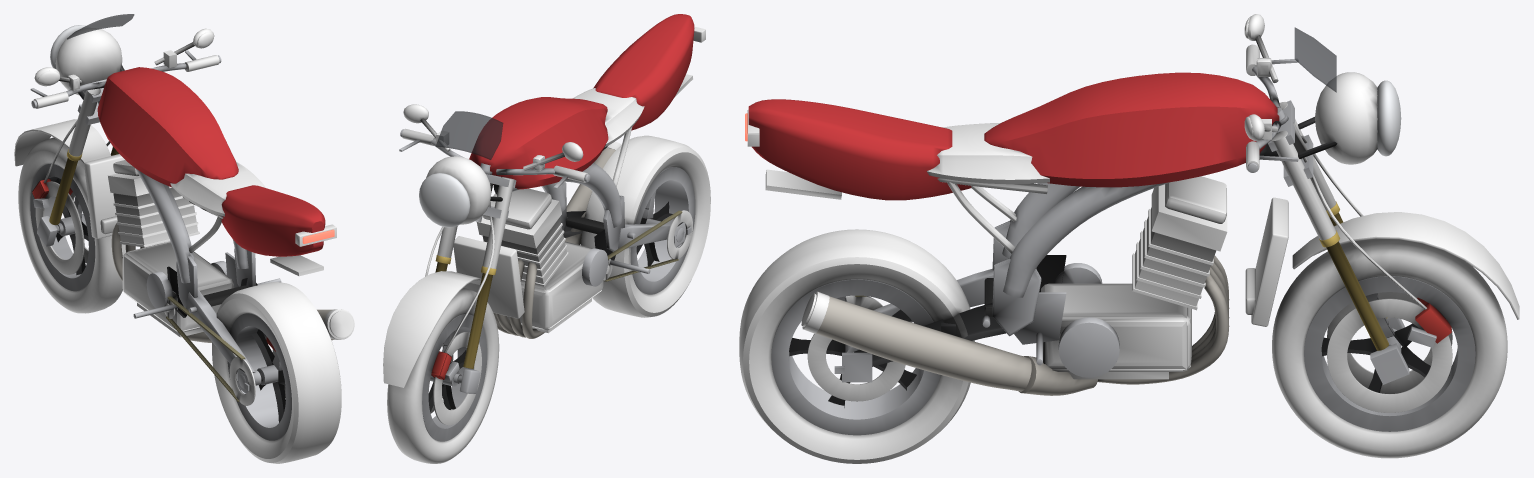
The model's file is moto2.fbx.
3 renders of one model, left to right at view 1: azimuth 30°, elevation 25°; view 2: azimuth 150°, elevation 25°; view 3: azimuth 270°, elevation 25°, orthographic. The views are drawn at different scales.
Visible parts, largest first — view 1: body, rear, front, steer, swing, screen; view 2: body, steer, rear, front, swing, screen; view 3: body, front, rear, steer, swing, screen.
Boxes of the visible parts, bbox=[...] form: body: bbox=[34, 28, 354, 342]; rear: bbox=[212, 282, 341, 463]; front: bbox=[18, 137, 125, 313]; steer: bbox=[14, 25, 221, 246]; swing: bbox=[164, 278, 275, 401]; screen: bbox=[67, 14, 134, 39]; body: bbox=[403, 14, 705, 338]; steer: bbox=[383, 128, 590, 394]; rear: bbox=[581, 135, 710, 317]; front: bbox=[387, 287, 499, 463]; swing: bbox=[563, 210, 691, 281]; screen: bbox=[436, 111, 503, 159]; body: bbox=[745, 14, 1307, 395]; front: bbox=[1272, 238, 1507, 458]; rear: bbox=[739, 229, 974, 463]; steer: bbox=[1246, 44, 1519, 384]; swing: bbox=[834, 268, 1006, 382]; screen: bbox=[1294, 27, 1336, 92].
Size of the model in its own units: 0.744 by 1.2 by 2.05.
